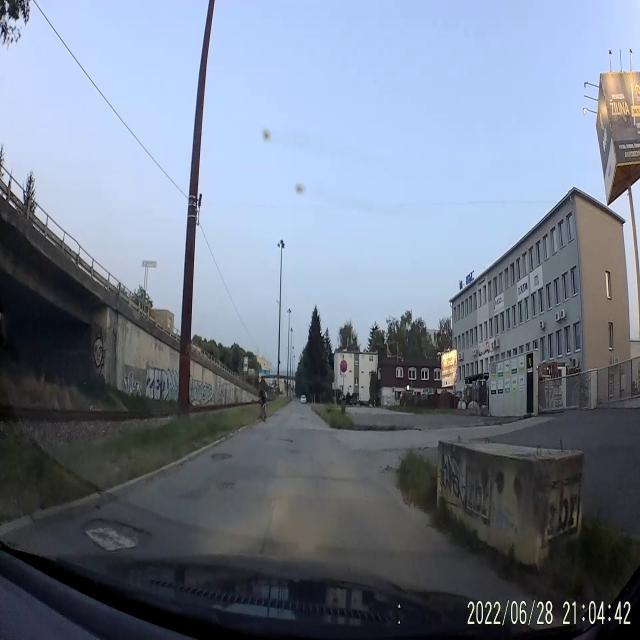Pothole: (82, 512, 150, 550), (206, 449, 233, 463), (278, 432, 294, 446), (382, 463, 396, 476)
